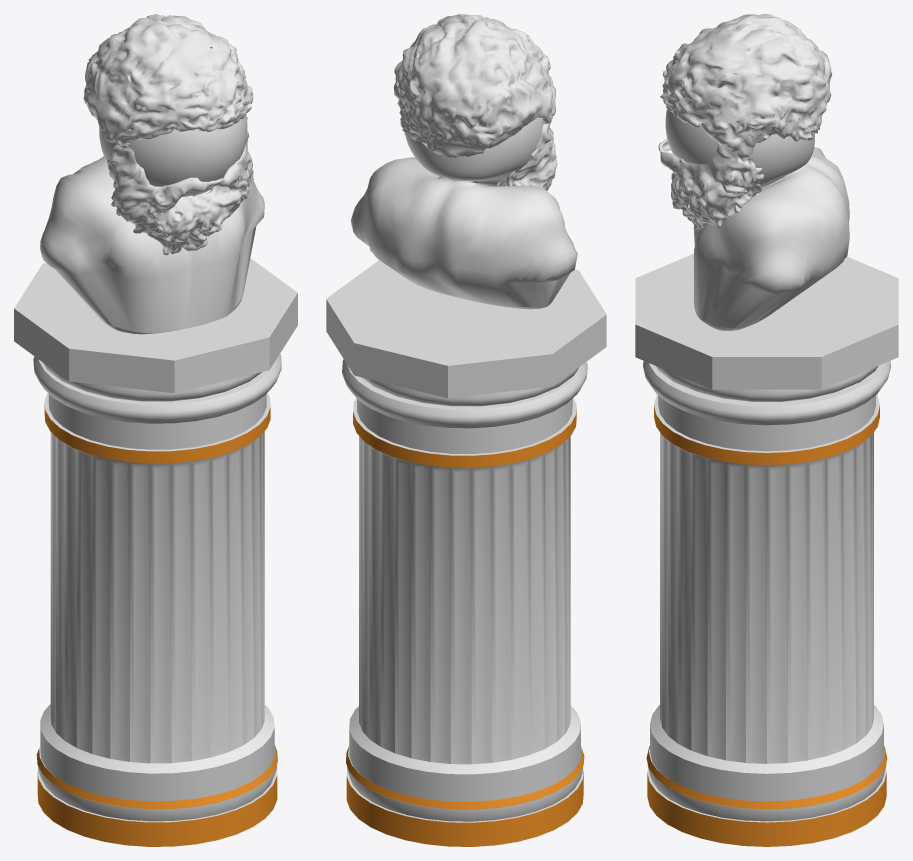
Rendered from herculus.fbx.
3 views of the same model, side by side, from view 1: azimuth 30°, elevation 25°; view 2: azimuth 150°, elevation 25°; view 3: azimuth 270°, elevation 25° (orthographic).
Parts seen in each view (by area): view 1: Cylinder.003, Stickman_heads_sphere.002, 大理石の柱.002, Merged_Hercu_137.005, Merged_Hercu_137.006; view 2: Cylinder.003, 大理石の柱.002, Stickman_heads_sphere.002, Merged_Hercu_137.005, Merged_Hercu_137.006; view 3: Cylinder.003, 大理石の柱.002, Stickman_heads_sphere.002, Merged_Hercu_137.005, Merged_Hercu_137.006.
Part boxes in pixels (x1,y1,x2,y2): Cylinder.003: (33,354,281,846); Stickman_heads_sphere.002: (40,115,264,334); 大理石の柱.002: (14,258,297,401); Merged_Hercu_137.005: (83,14,253,148); Merged_Hercu_137.006: (107,114,253,255); Cylinder.003: (342,359,587,846); 大理石の柱.002: (326,260,606,406); Stickman_heads_sphere.002: (351,118,577,309); Merged_Hercu_137.005: (394,14,555,159); Merged_Hercu_137.006: (404,95,557,190); Cylinder.003: (643,361,890,846); 大理石の柱.002: (635,253,898,401); Stickman_heads_sphere.002: (665,109,849,331); Merged_Hercu_137.005: (660,14,832,165); Merged_Hercu_137.006: (658,118,763,231).
Size of the model in its own units: 85.93 by 280 by 85.93.
